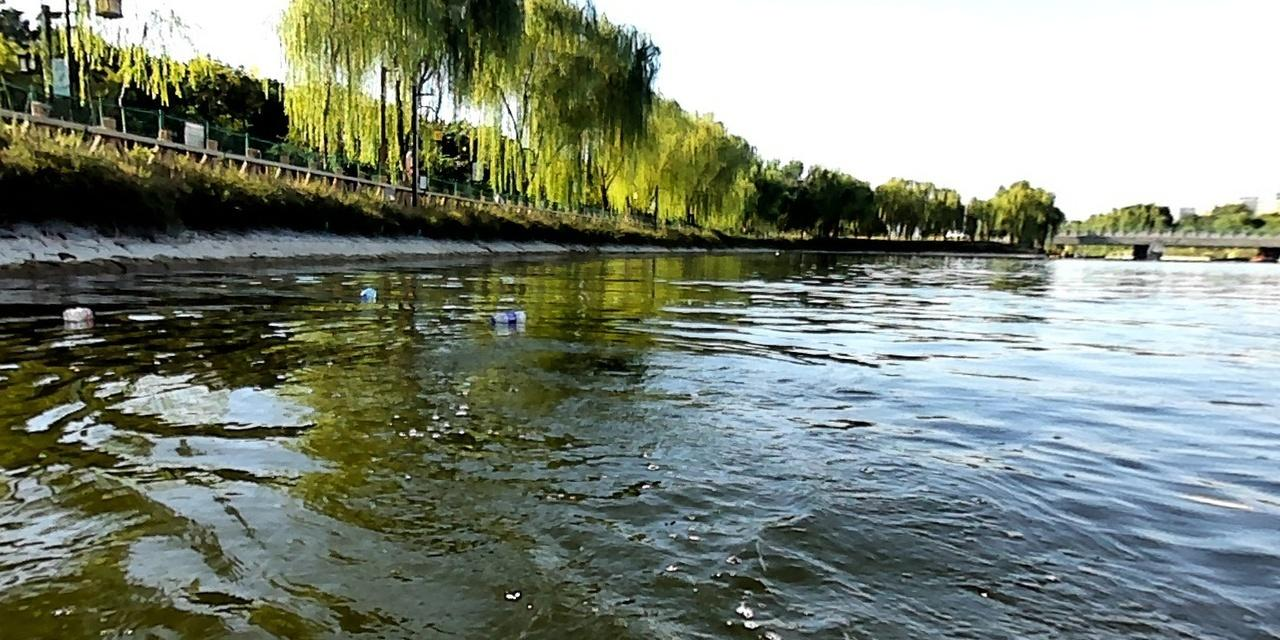bottle: (59, 302, 94, 322), (486, 308, 527, 325), (355, 283, 378, 300)
